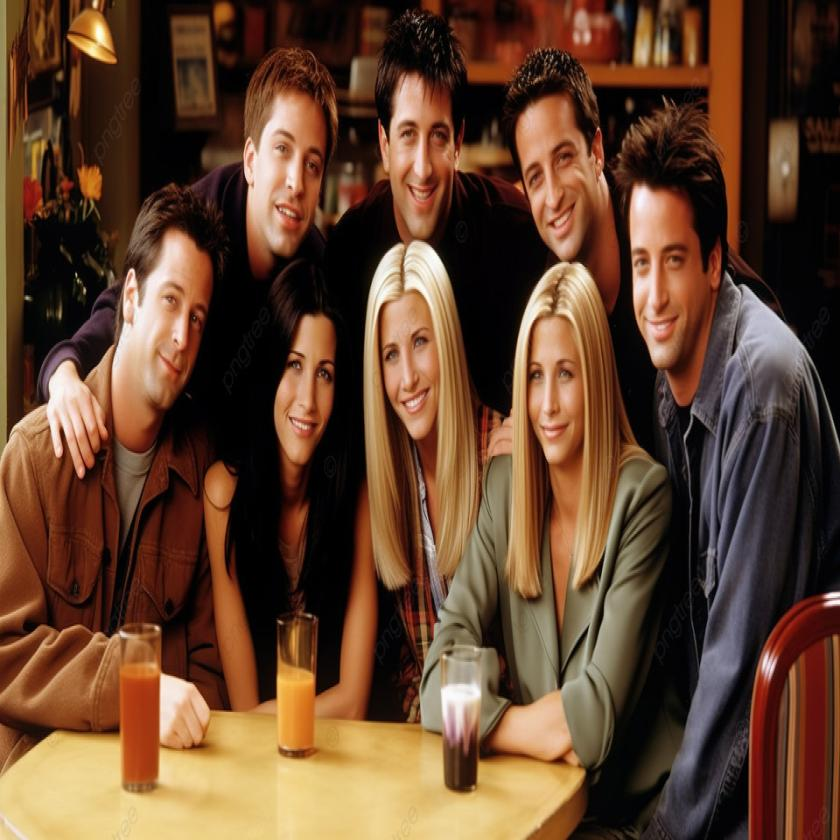Sin_casco: (616, 92, 734, 393), (125, 177, 226, 440), (512, 264, 613, 498), (260, 253, 356, 491), (241, 32, 343, 255), (506, 48, 611, 262), (372, 7, 469, 231), (367, 246, 460, 476)
